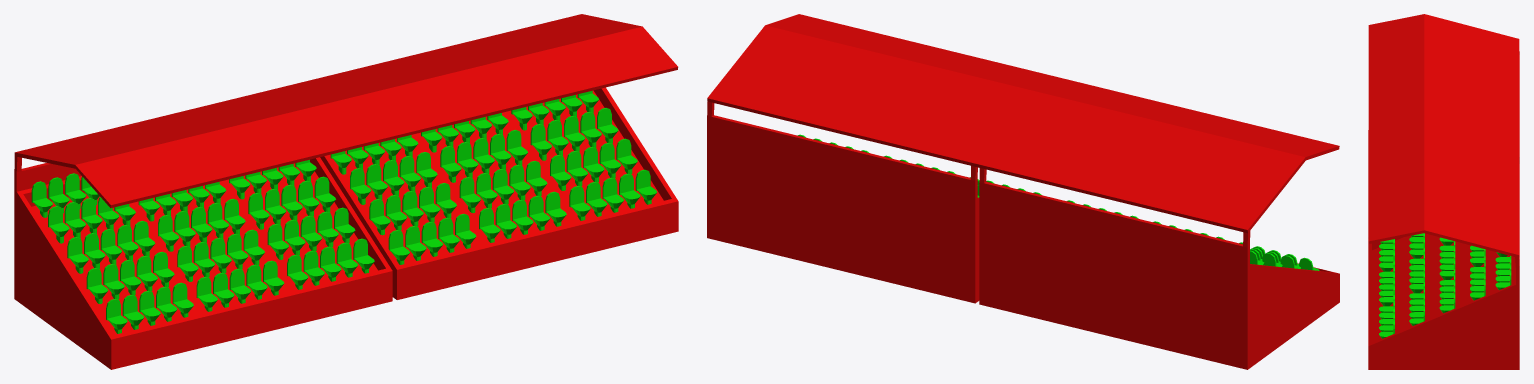
Rendered from Stadium_2.fbx.
The picture shows the model from 3 angles, left to right: view 1: azimuth 30°, elevation 25°; view 2: azimuth 150°, elevation 25°; view 3: azimuth 270°, elevation 25°; orthographic projection. The views are drawn at different scales.
Visible parts, largest first — view 1: Stadium2; view 2: Stadium2; view 3: Stadium2.
Part boxes in pixels (bbox=[...]): Stadium2: bbox=[14, 14, 678, 369]; Stadium2: bbox=[707, 14, 1339, 369]; Stadium2: bbox=[1368, 14, 1519, 369].
Bounding box in the file's own units: 3008 × 906 × 889.
